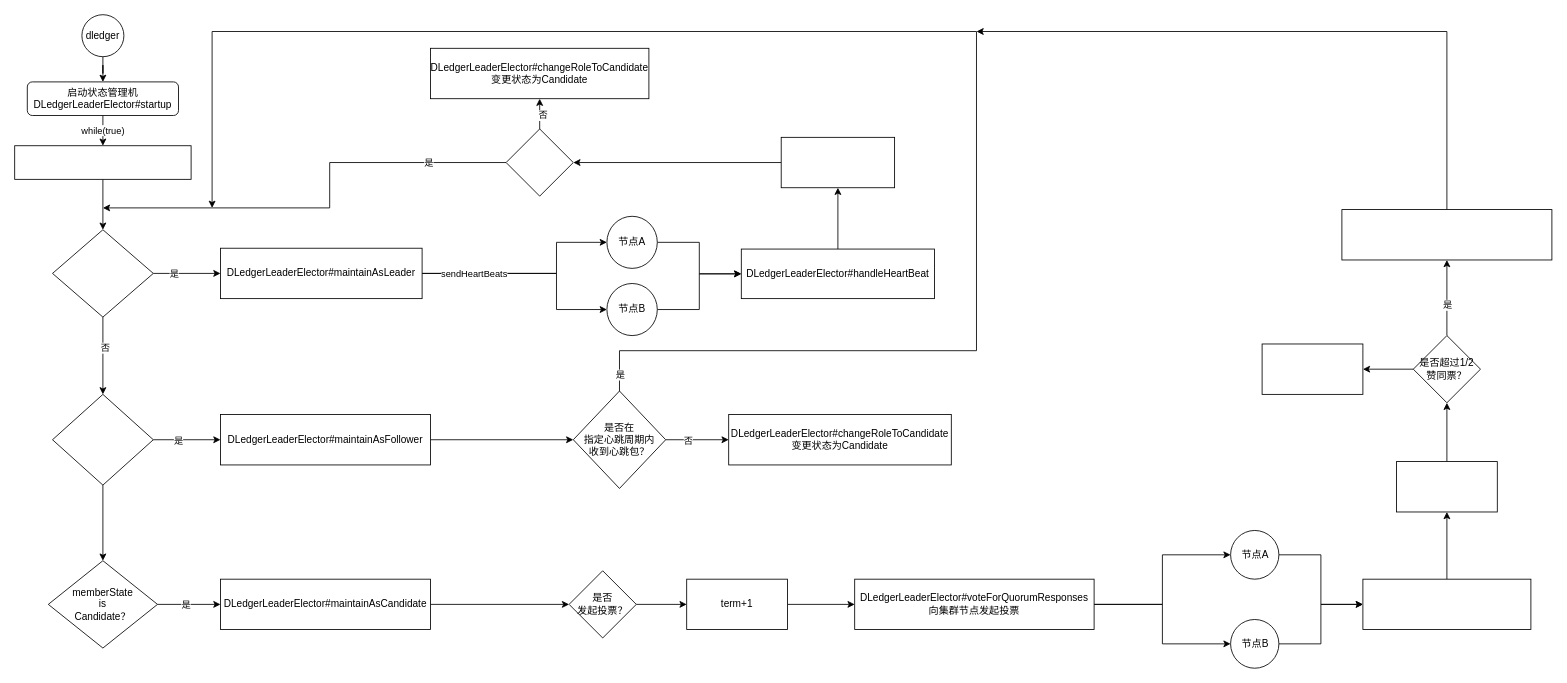
Image size: 1567x683. Some labels were removed from this diagram. Here are the shapes that lost their labels. From the top down, the centre of each, then its label:
At pixel 102 162: "DLedgerLeaderElector#maintainState (状态驱动)".
At pixel 539 162: "超半数节点 返回正常？".
At pixel 837 162: "对心跳包结果进行判定".
At pixel 1446 234: "DLedgerLeaderElector#changeRoleToLeader 状态切换到Leader".
At pixel 102 273: "memberState is Leader？".
At pixel 1312 368: "其他各种情况 导致需要重新投票等".
At pixel 102 439: "memberState is Follower？".
At pixel 1446 486: "投票结果判定".
At pixel 1446 604: "DLedgerLeaderElector#handleVote 处理投票请求".
